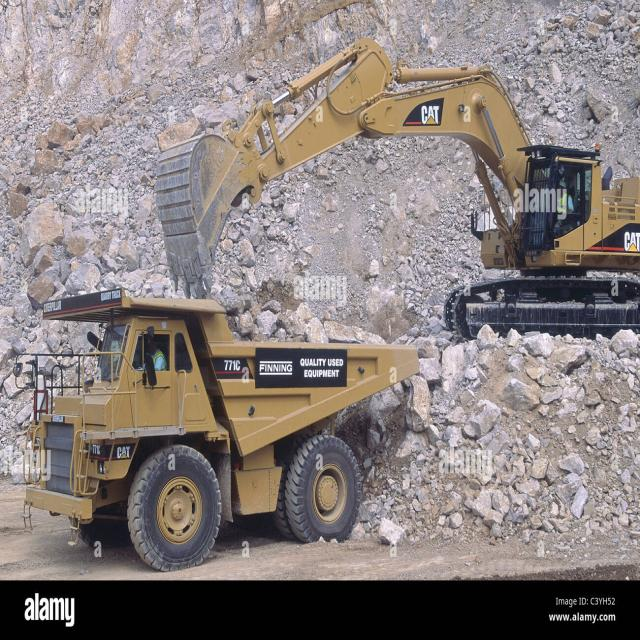dump_truck: (31, 294, 419, 558)
excavator: (129, 38, 640, 310)
